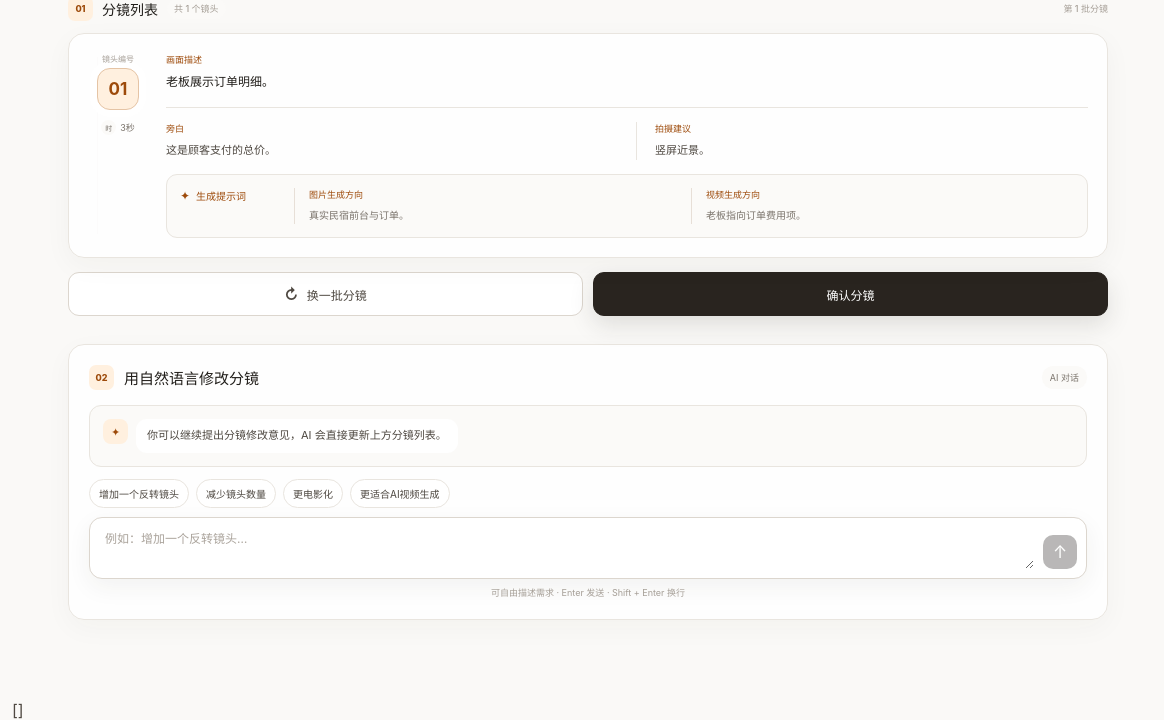
Test case: 所有聊天修改链路 › Step6 发送完整当前分镜并同步更新 Context 和页面
The width and height of the screenshot is (1164, 720).
(page scrolled)
In the text box named "输入分镜修改要求": (568, 548) [103,527,1034,569], type "更幽默"
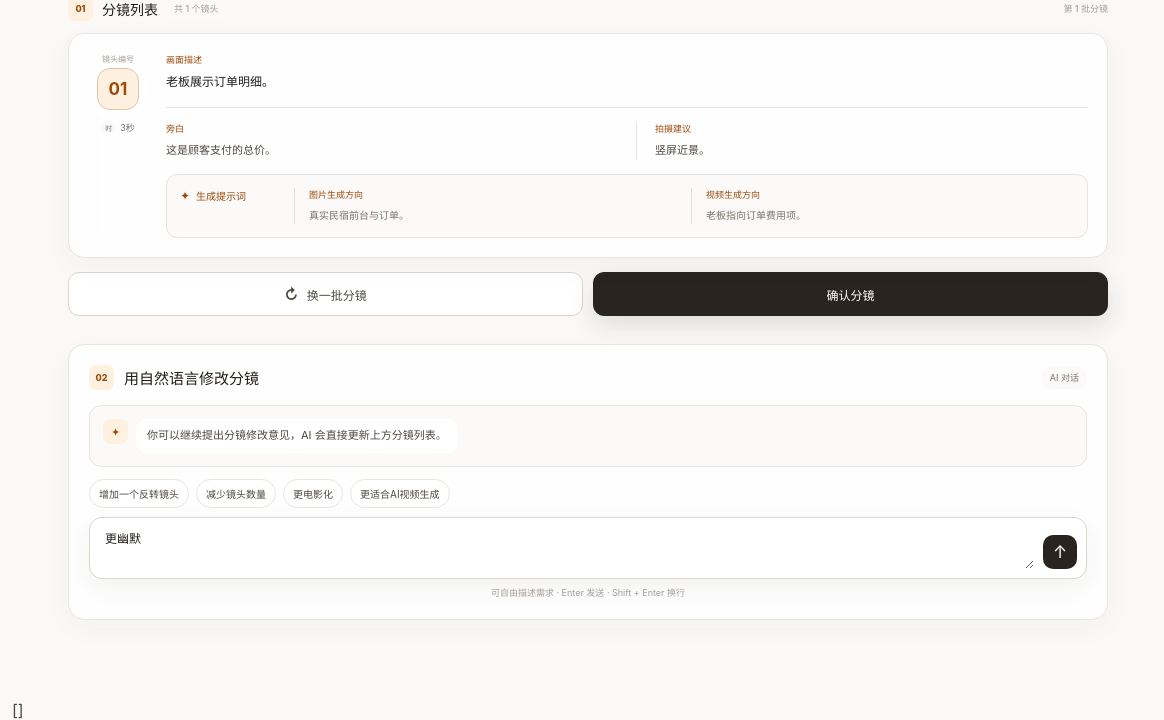
Click the button named "发送创意要求": (1060, 552) [1043,535,1077,569]
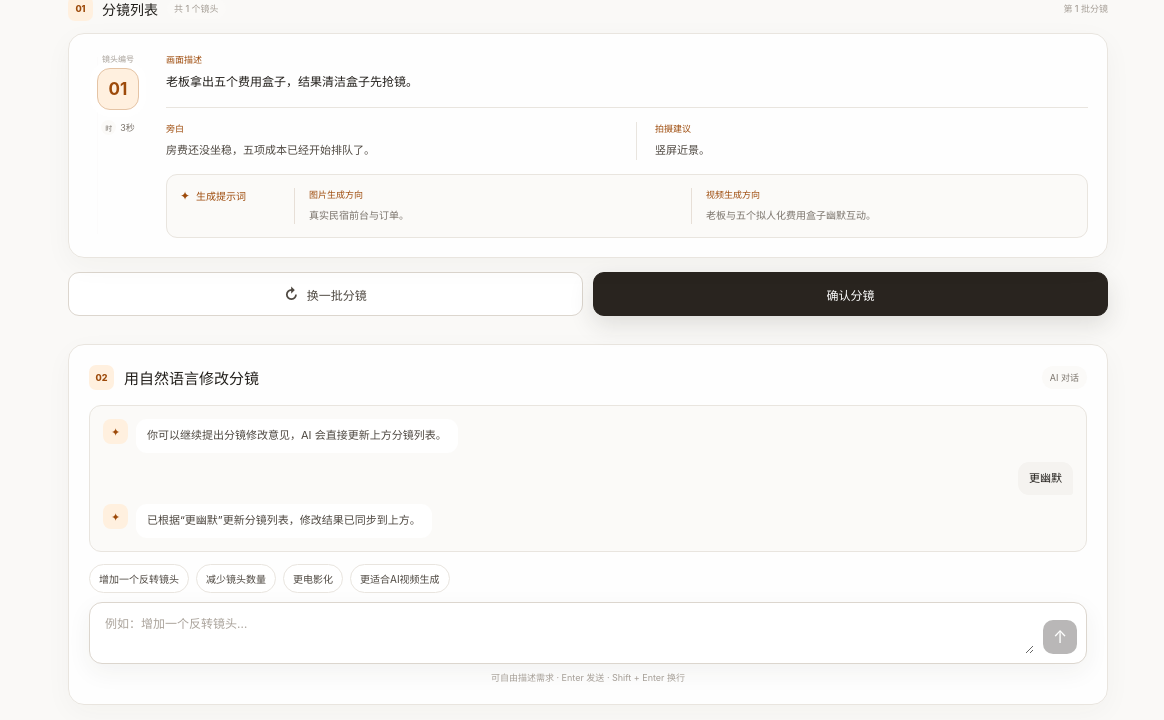
Result: the text "房费还没坐稳，五项成本已经开始排队了。" is shown at [166,143,375,157]
Result: the text "已根据“更幽默”更新分镜列表，修改结果已同步到上方。" is shown at [136,504,432,538]
